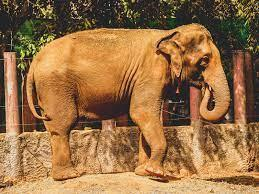elephant: (26, 23, 229, 179)
